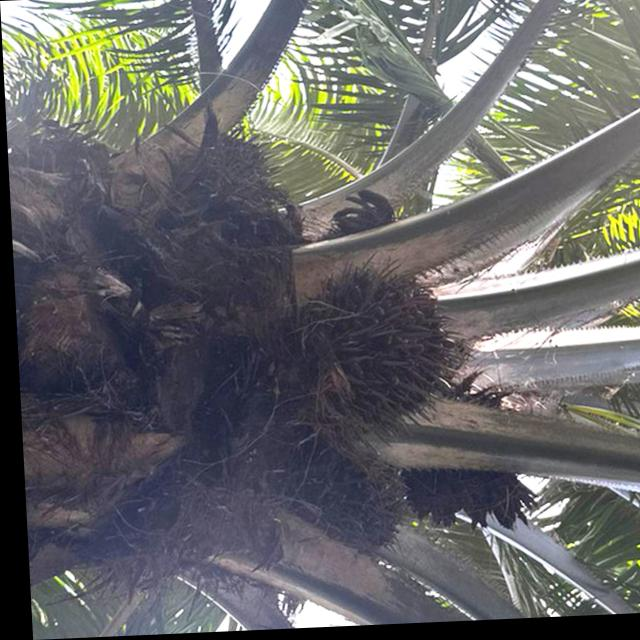ripe: (299, 268, 461, 427), (276, 432, 400, 563)
